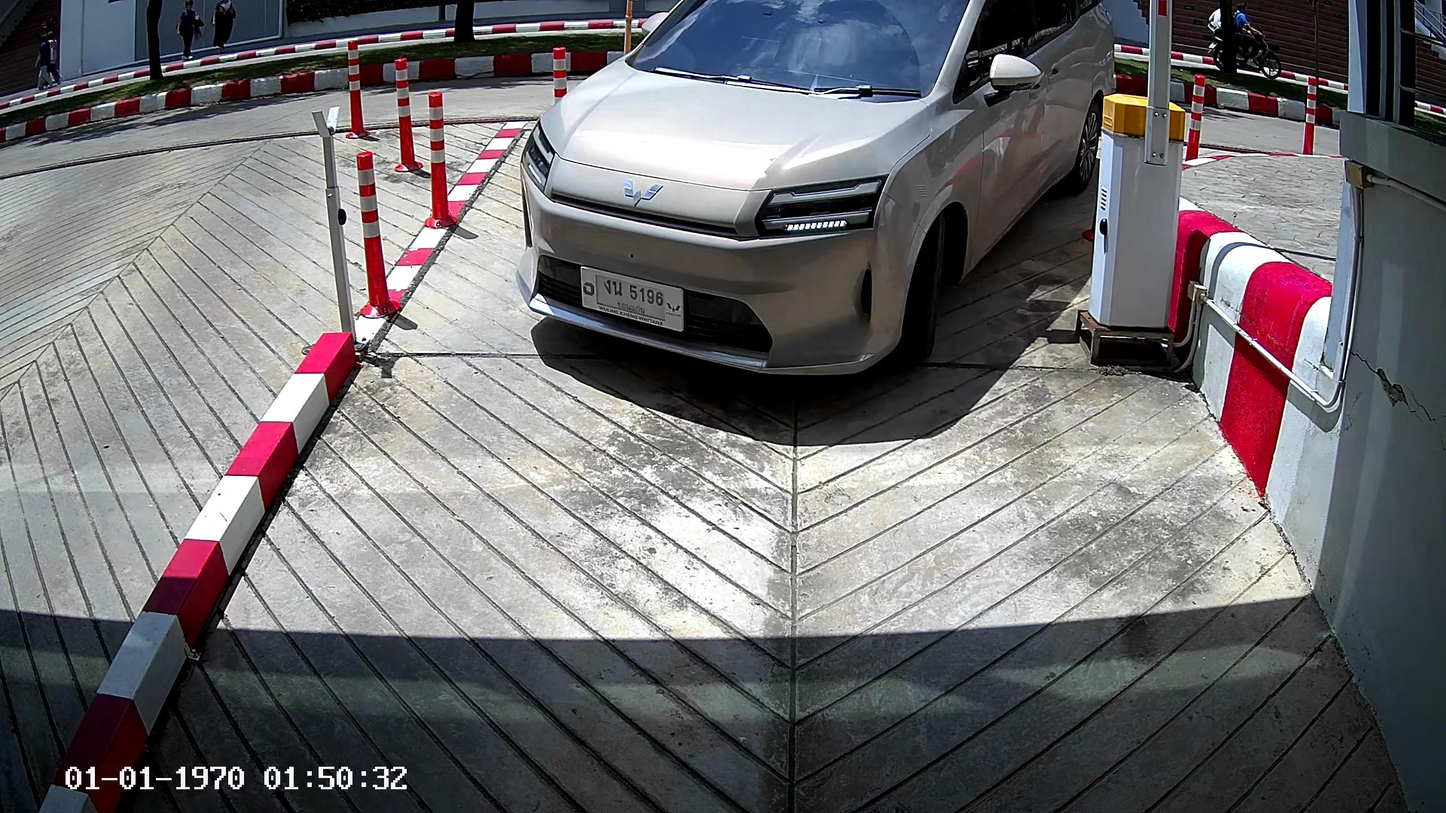car: (517, 2, 1108, 388)
license-plate: (576, 260, 686, 334)
